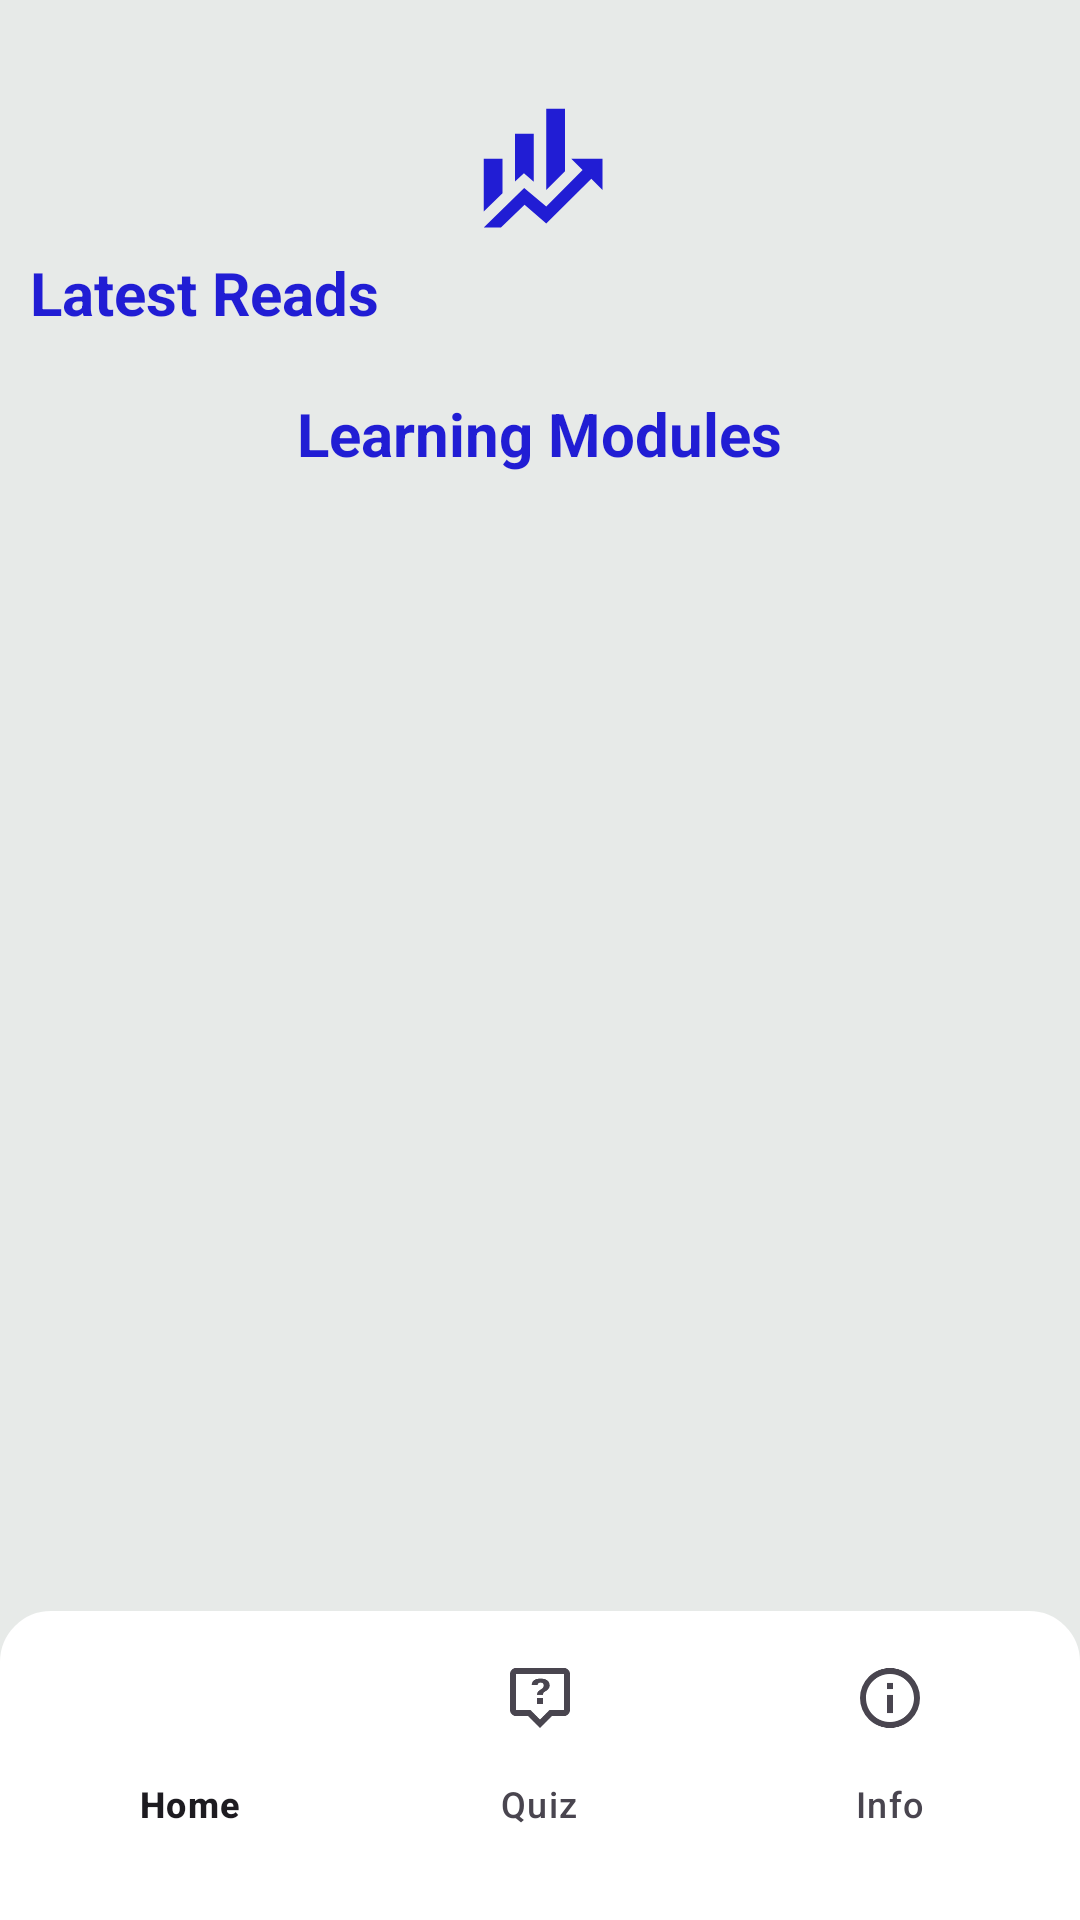

Where to tap for icons on this 1080 x 1920 app screen, as (x=x, y=y):
finance: (x=543, y=168)
